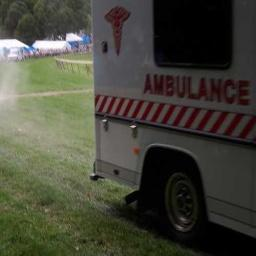Ambulance: (92, 0, 255, 241)
